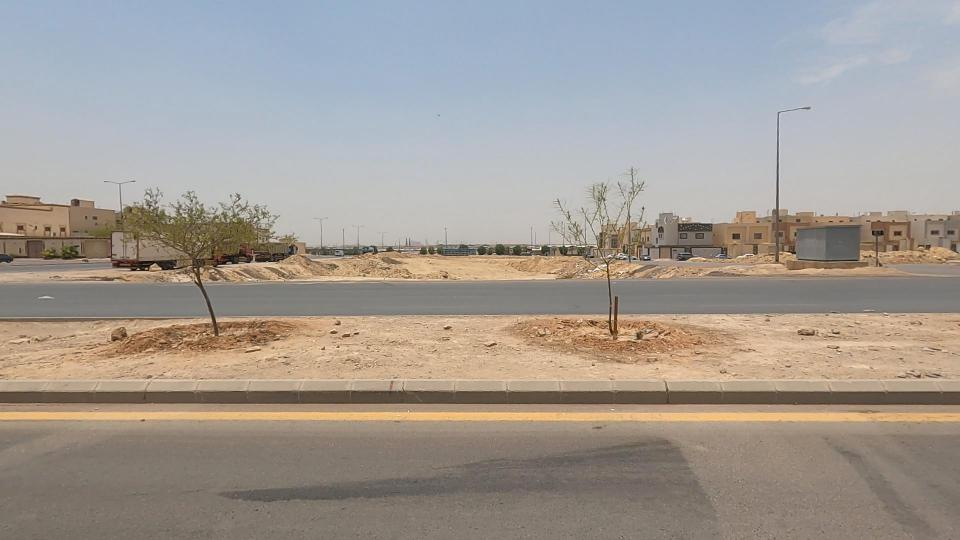CLUTTER_SIDEWALK: (592, 255, 960, 439), (212, 272, 559, 428), (0, 269, 276, 430)
